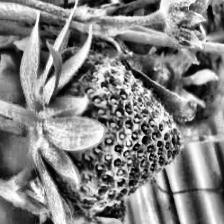Powdery Mildew Fruit: (28, 45, 185, 212)
